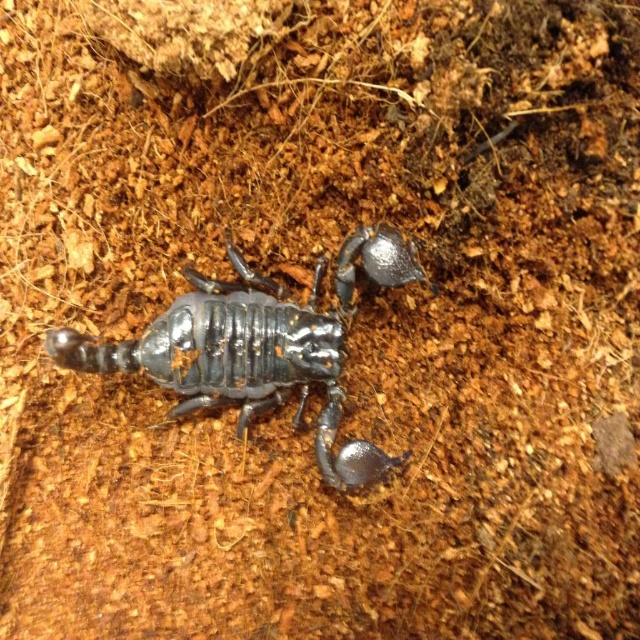Scorpion: (47, 221, 422, 499)
